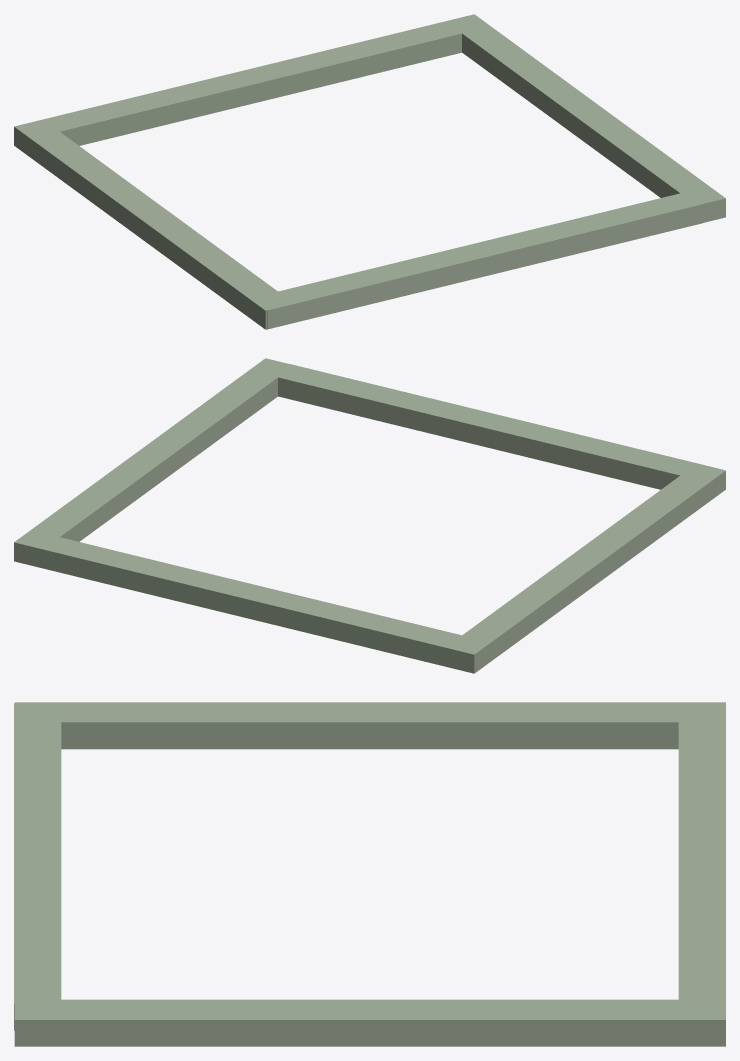
Rendered from Wall2.fbx.
3 views of the same model, one above another, from view 1: azimuth 30°, elevation 25°; view 2: azimuth 150°, elevation 25°; view 3: azimuth 270°, elevation 25° (orthographic). The views are drawn at different scales.
Parts seen in each view (by area): view 1: Cube.001, Cube.002, Cube.004, Cube.003; view 2: Cube.002, Cube.001, Cube.004, Cube.003; view 3: Cube.003, Cube.004, Cube.001, Cube.002.
Part boxes in pixels (x1=…): Cube.001: x1=251, y1=192, x2=702, y2=329; Cube.002: x1=17, y1=20, x2=467, y2=145; Cube.004: x1=14, y1=119, x2=292, y2=329; Cube.003: x1=446, y1=14, x2=725, y2=222; Cube.002: x1=37, y1=536, x2=489, y2=673; Cube.001: x1=273, y1=364, x2=724, y2=489; Cube.004: x1=446, y1=464, x2=725, y2=673; Cube.003: x1=14, y1=358, x2=293, y2=566; Cube.003: x1=14, y1=999, x2=725, y2=1046; Cube.004: x1=14, y1=702, x2=725, y2=749; Cube.001: x1=14, y1=703, x2=61, y2=1030; Cube.002: x1=678, y1=703, x2=725, y2=1003.
Size of the model in its own units: 1585 by 62.7 by 1501.
